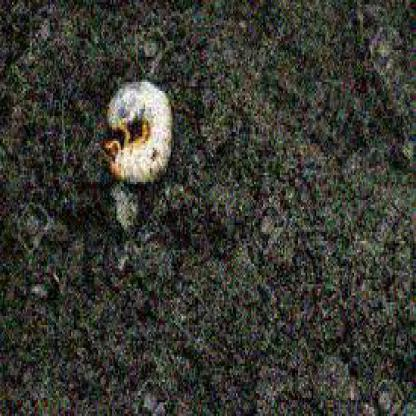root grubs: (104, 83, 173, 181)
